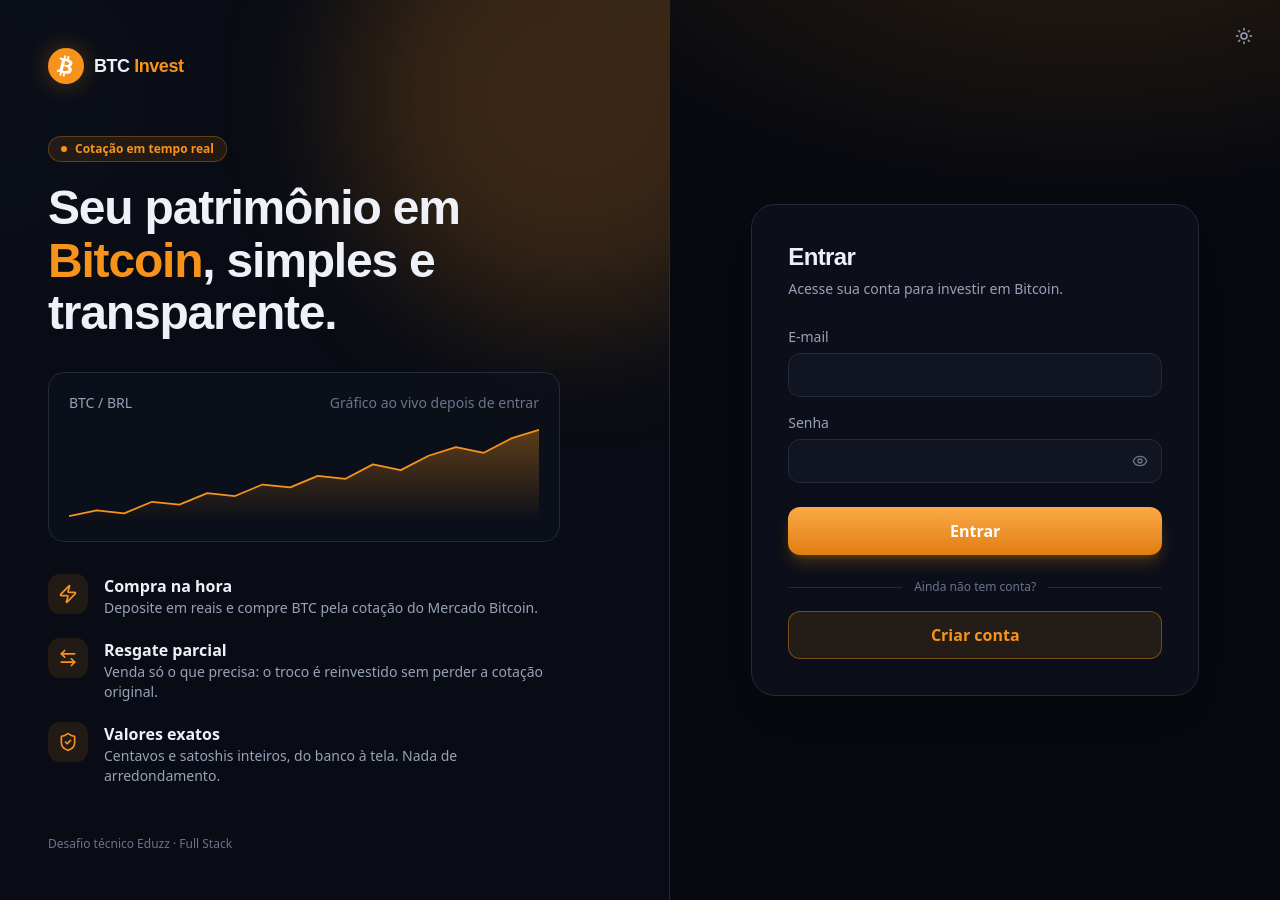
LoginPage › shows the API error in Portuguese on wrong credentials
Type "maria@example.com" into the field labelled "E-mail" at (975, 375), box x1=788 y1=353 x2=1162 y2=397
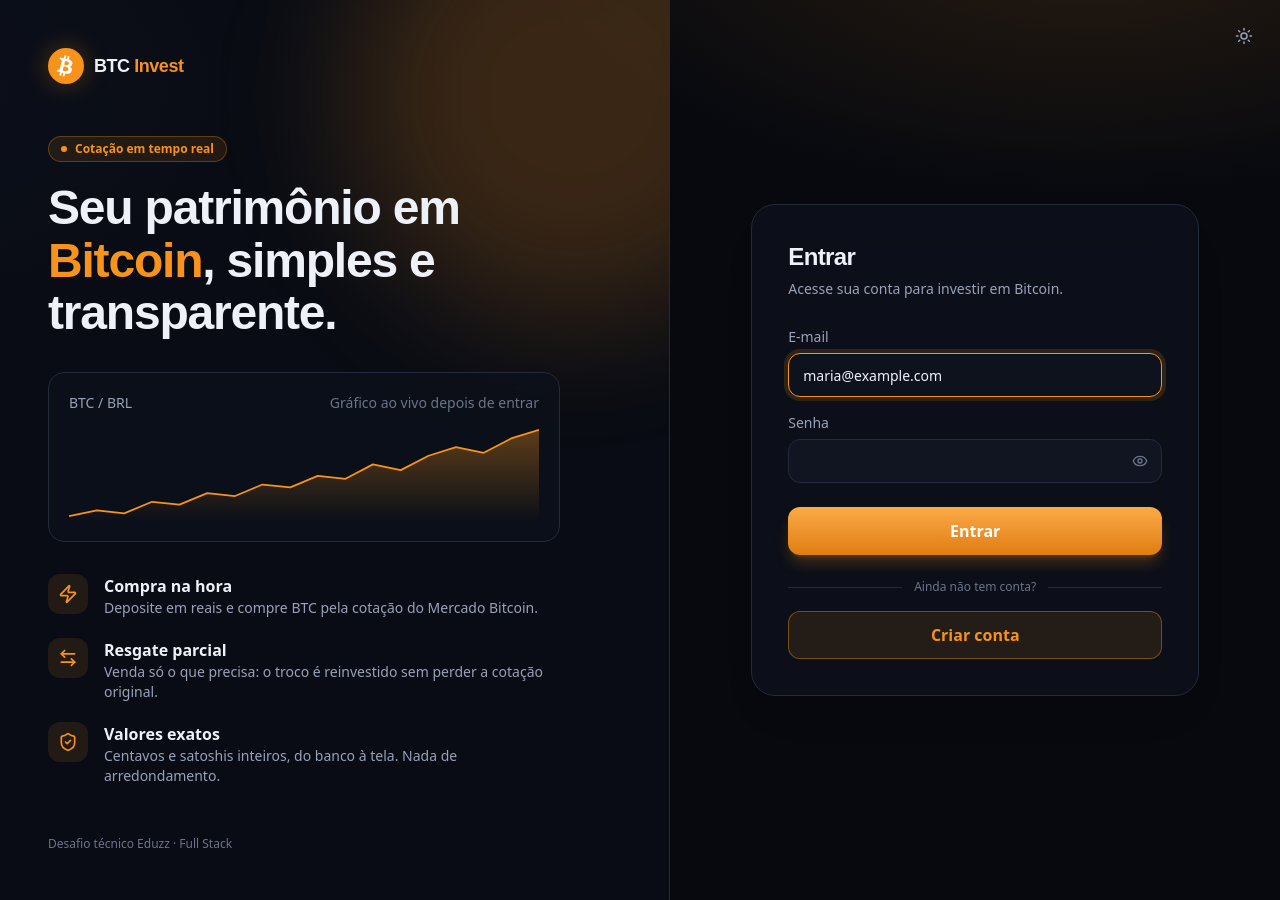
Type "wrong-password" into the password field labelled "Senha" at (975, 461), box x1=788 y1=439 x2=1162 y2=483
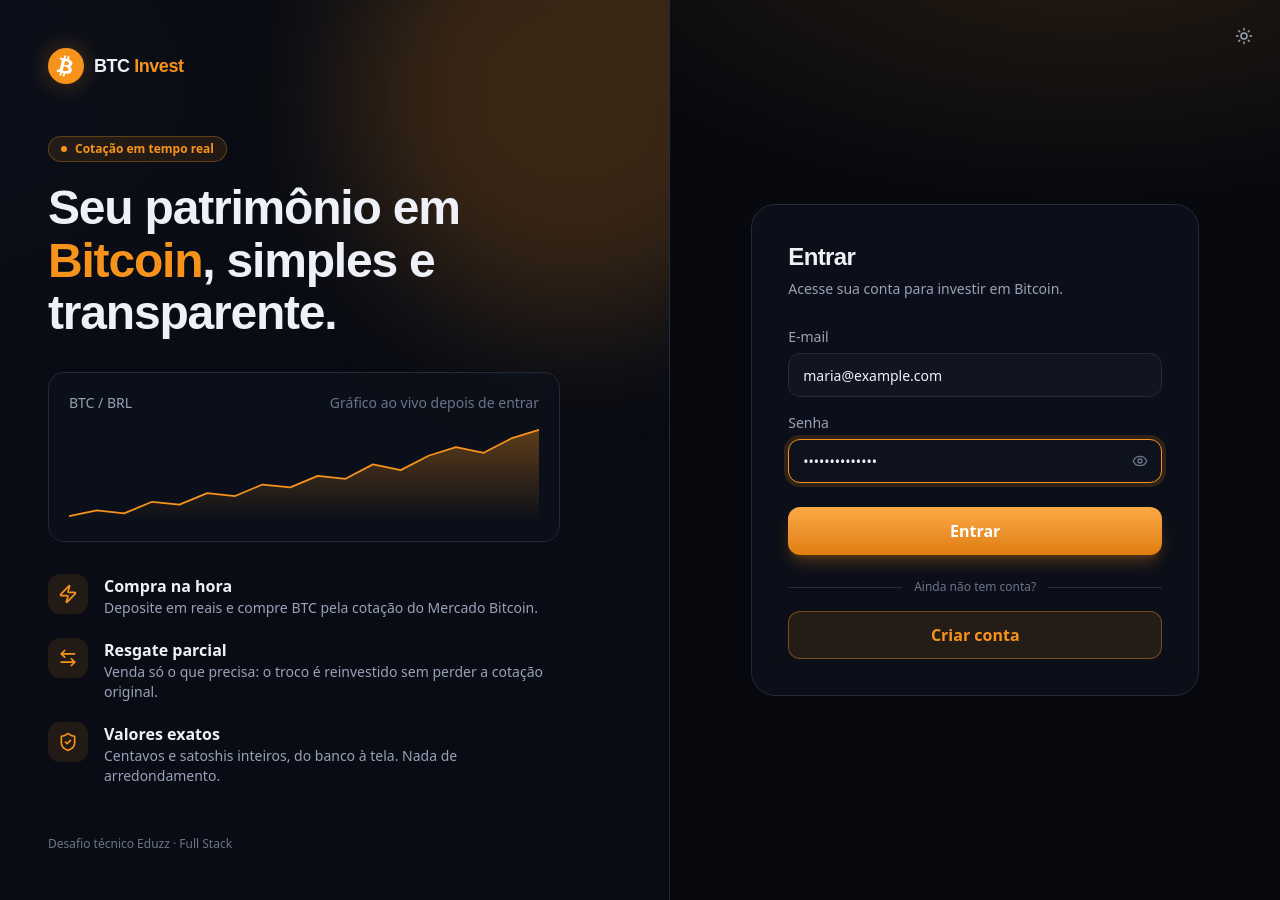
Click the button "Entrar" at (975, 531), box x1=788 y1=507 x2=1162 y2=555
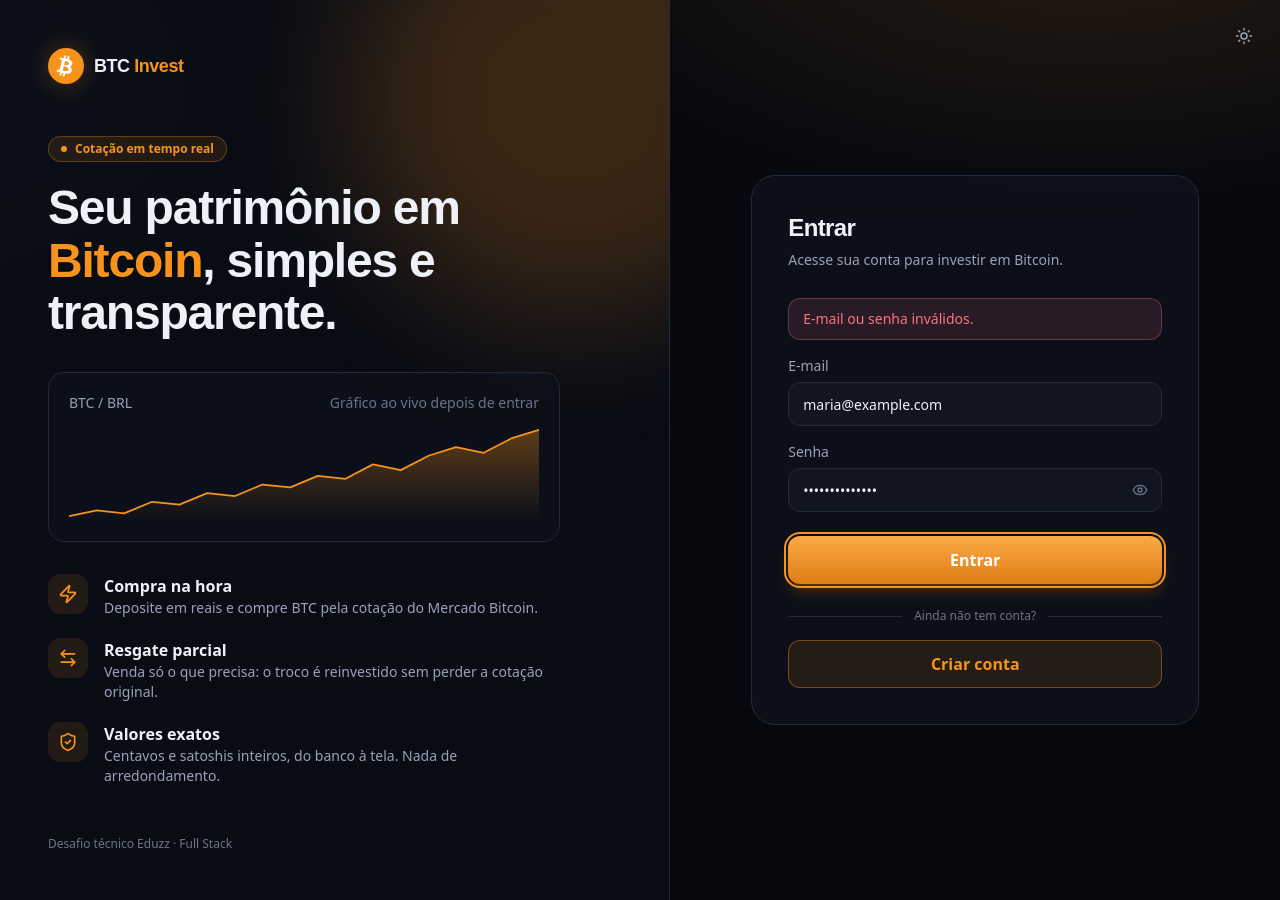
Result: the message reads "E-mail ou senha inválidos." at x1=803 y1=309 x2=974 y2=328
